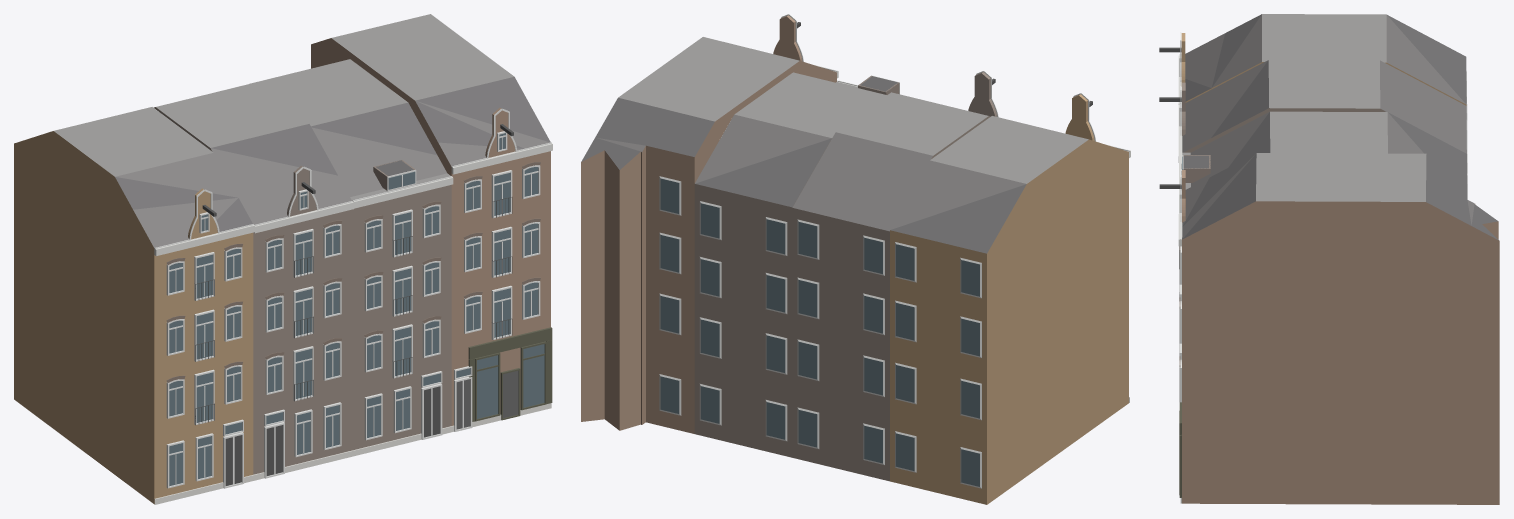
Rendered from chunk-face-bellamyplein-18-38-r2.glb.
3 views of the same model, side by side, from view 1: azimuth 30°, elevation 25°; view 2: azimuth 150°, elevation 25°; view 3: azimuth 270°, elevation 25° (orthographic).
Visible parts, largest first — view 1: face-bellamyplein-18-38-r2; view 2: face-bellamyplein-18-38-r2; view 3: face-bellamyplein-18-38-r2.
Part boxes in pixels (x1=…): face-bellamyplein-18-38-r2: x1=14, y1=14, x2=552, y2=504; face-bellamyplein-18-38-r2: x1=581, y1=14, x2=1130, y2=504; face-bellamyplein-18-38-r2: x1=1159, y1=14, x2=1499, y2=504.
Bounding box in the file's own units: 22.14 × 16.5 × 16.4.
